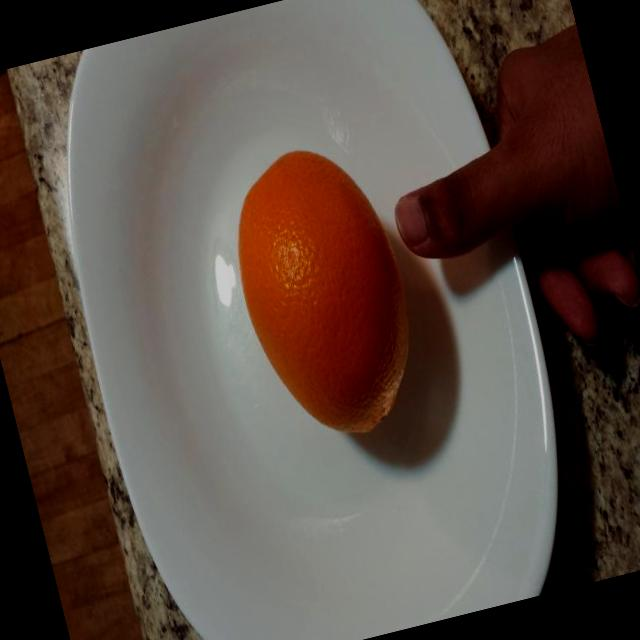Orange: (175, 106, 442, 479)
